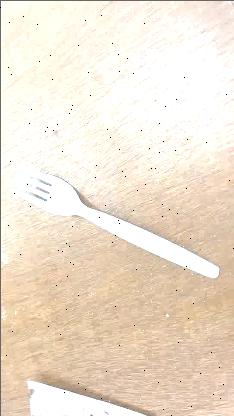Others: (10, 166, 220, 278)
